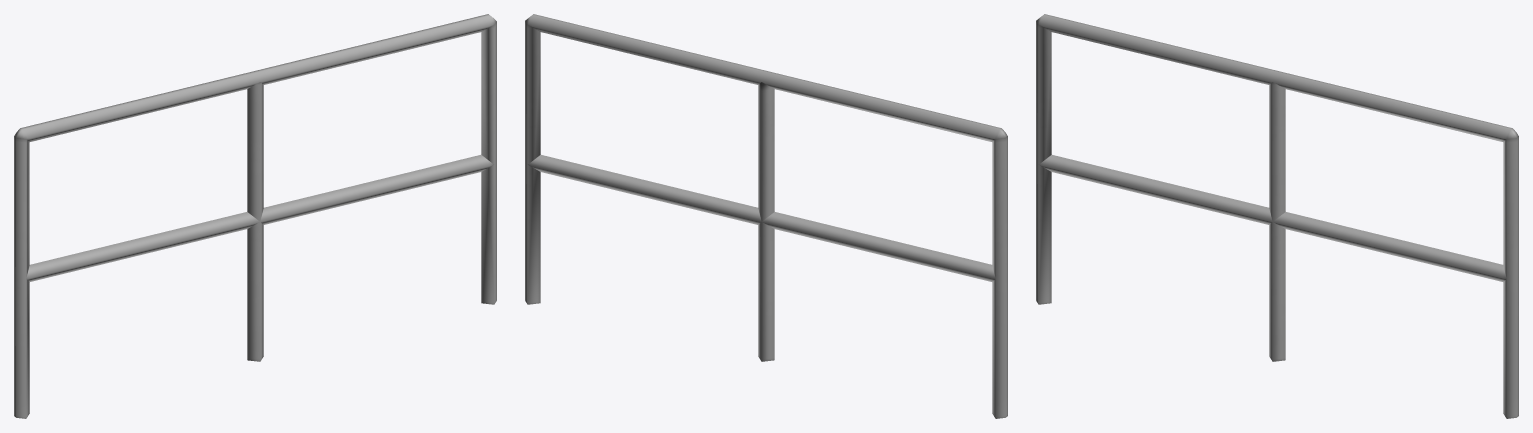
Rendered from Rail2x1Bars.gltf.
3 views of the same model, side by side, from view 1: azimuth 30°, elevation 25°; view 2: azimuth 150°, elevation 25°; view 3: azimuth 330°, elevation 25° (orthographic).
Parts seen in each view (by area): view 1: Rail2x1BarsShape; view 2: Rail2x1BarsShape; view 3: Rail2x1BarsShape.
Part boxes in pixels (x1=…): Rail2x1BarsShape: x1=14, y1=14, x2=496, y2=418; Rail2x1BarsShape: x1=525, y1=14, x2=1007, y2=418; Rail2x1BarsShape: x1=1036, y1=14, x2=1518, y2=418.
Bounding box in the file's own units: 180 × 102 × 6.2.
1 material, 1 textured.
